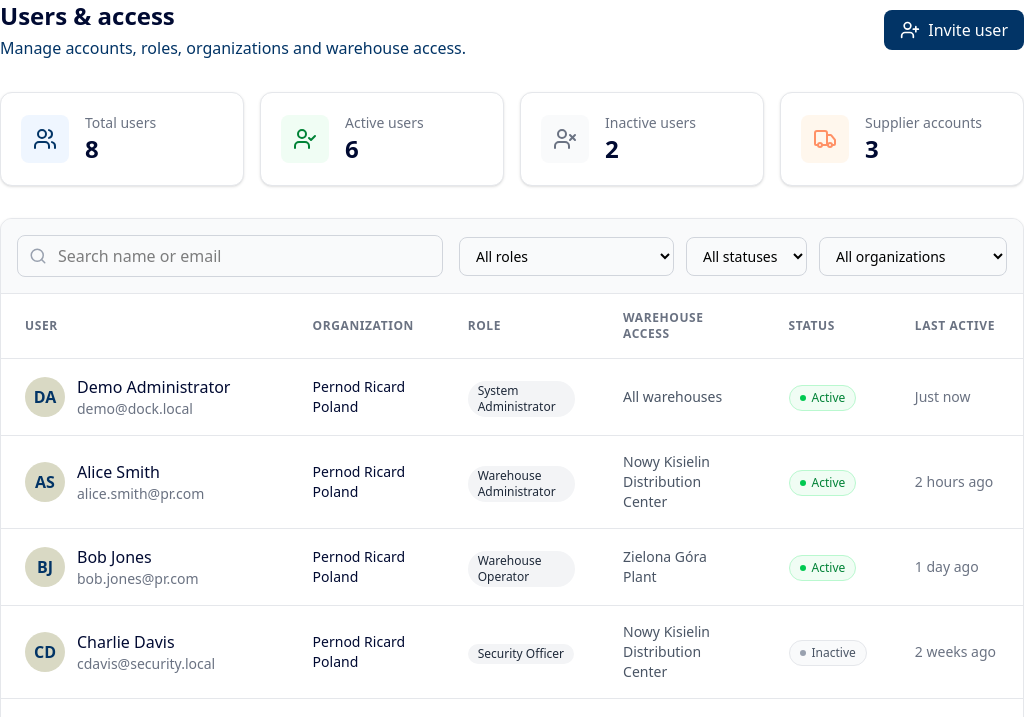
Test: UsersAccessPage › 6. status filter works
Select "Inactive" in the dropdown named "Filter by status" at (746, 256), box x1=686 y1=236 x2=807 y2=276
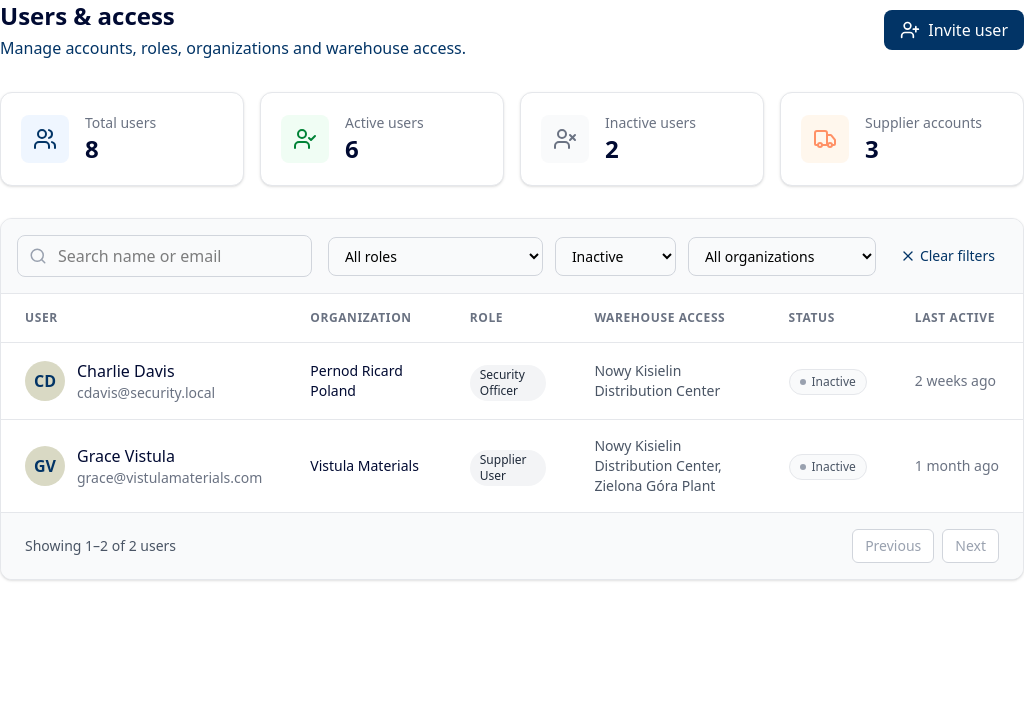
Check: the text "Charlie Davis" is shown, box x1=77 y1=360 x2=175 y2=382
Check: the text "Alice Smith" is gone
